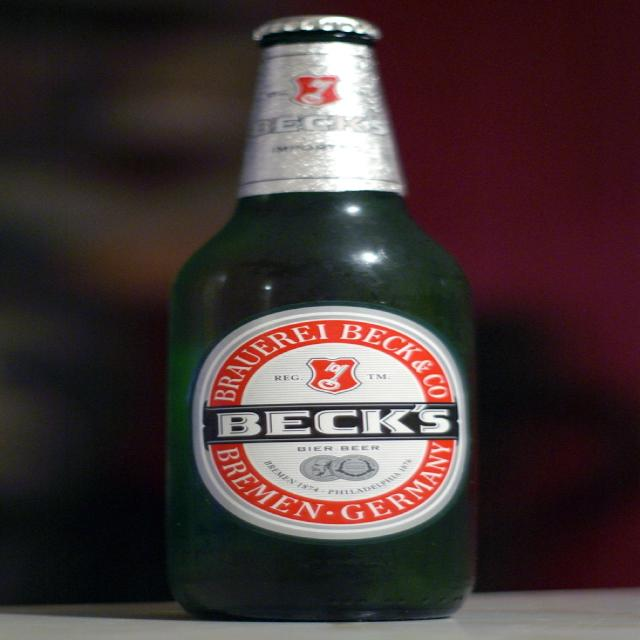becks: (191, 307, 473, 543)
